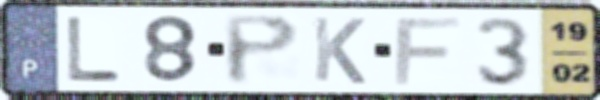3: (473, 16, 533, 88)
8: (140, 14, 200, 85)
F: (391, 15, 464, 87)
K: (310, 14, 368, 87)
L: (64, 14, 124, 83)
P: (220, 12, 303, 87)
